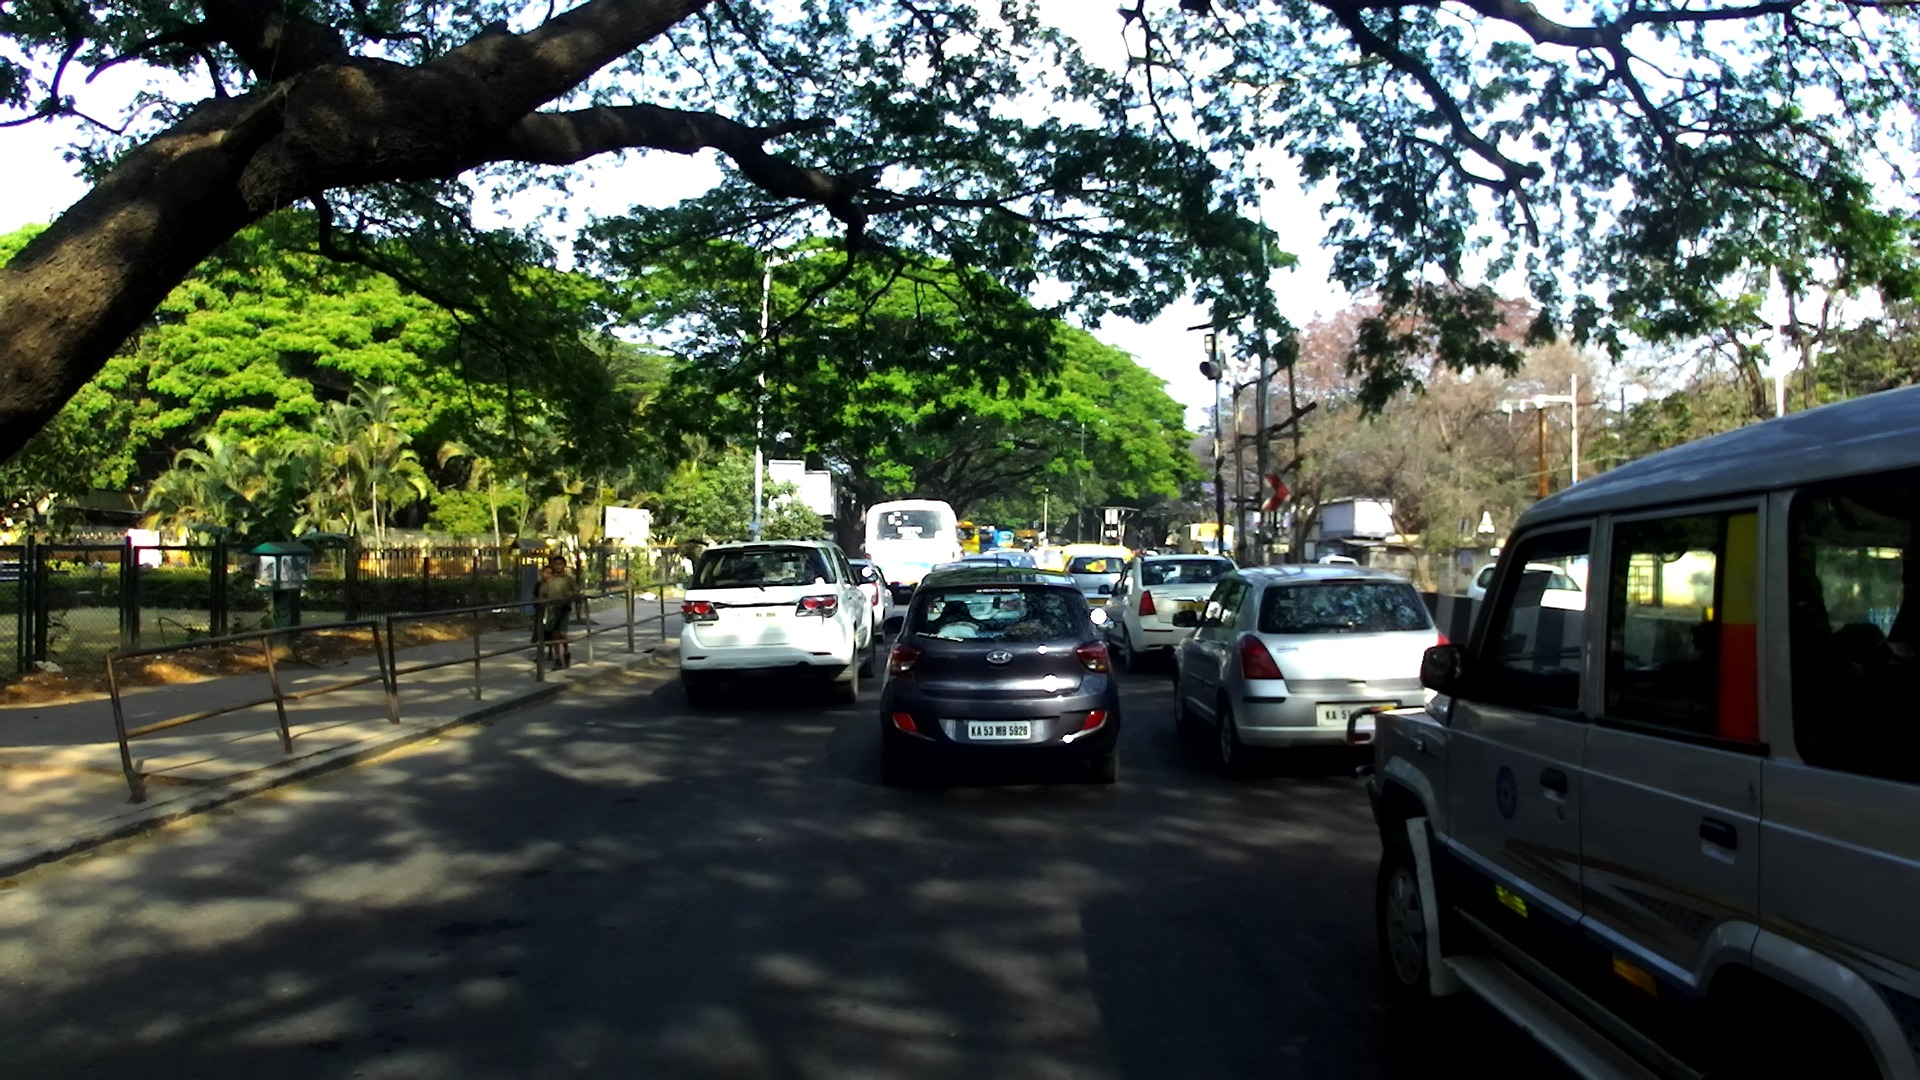autorickshaw: (1062, 543, 1135, 586)
bus: (864, 500, 966, 601), (954, 522, 981, 558), (977, 527, 1001, 555), (1012, 529, 1041, 550), (997, 531, 1016, 549)
car: (1346, 385, 1920, 1080), (1171, 565, 1459, 776), (879, 553, 1123, 791), (675, 540, 875, 706), (1097, 552, 1241, 671), (1468, 562, 1593, 614), (838, 558, 899, 644), (1064, 554, 1134, 624), (931, 556, 1020, 581), (986, 550, 1036, 573), (1031, 545, 1066, 571), (1319, 555, 1358, 570)
person: (538, 555, 582, 668), (531, 564, 562, 661)
rider: (1027, 544, 1039, 560)
traffic light: (1200, 358, 1221, 380)
truck: (1180, 521, 1236, 565)
vehicle fallback: (1141, 545, 1177, 558)
